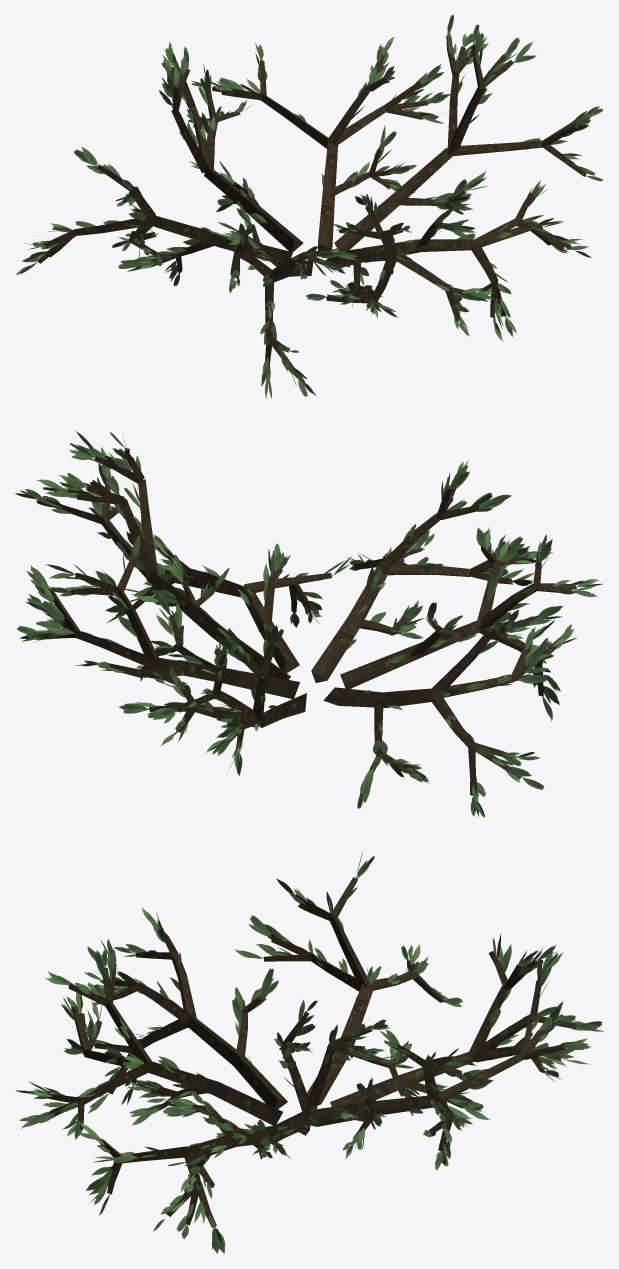
File: juniper_low_v02_LOD1.glb
The picture shows the model from 3 angles, top to bottom: view 1: azimuth 30°, elevation 25°; view 2: azimuth 150°, elevation 25°; view 3: azimuth 270°, elevation 25°; orthographic projection. The views are drawn at different scales.
Parts seen in each view (by area): view 1: juniper_low_v02_LOD1; view 2: juniper_low_v02_LOD1; view 3: juniper_low_v02_LOD1.
Part boxes in pixels (left/top/right/bottom): juniper_low_v02_LOD1: left=16, top=14, right=603, bottom=398; juniper_low_v02_LOD1: left=14, top=431, right=602, bottom=817; juniper_low_v02_LOD1: left=15, top=851, right=603, bottom=1253.
Bounding box in the file's own units: 1.67 × 0.7336 × 1.47.
Materials: 2 (2 with a texture image).
